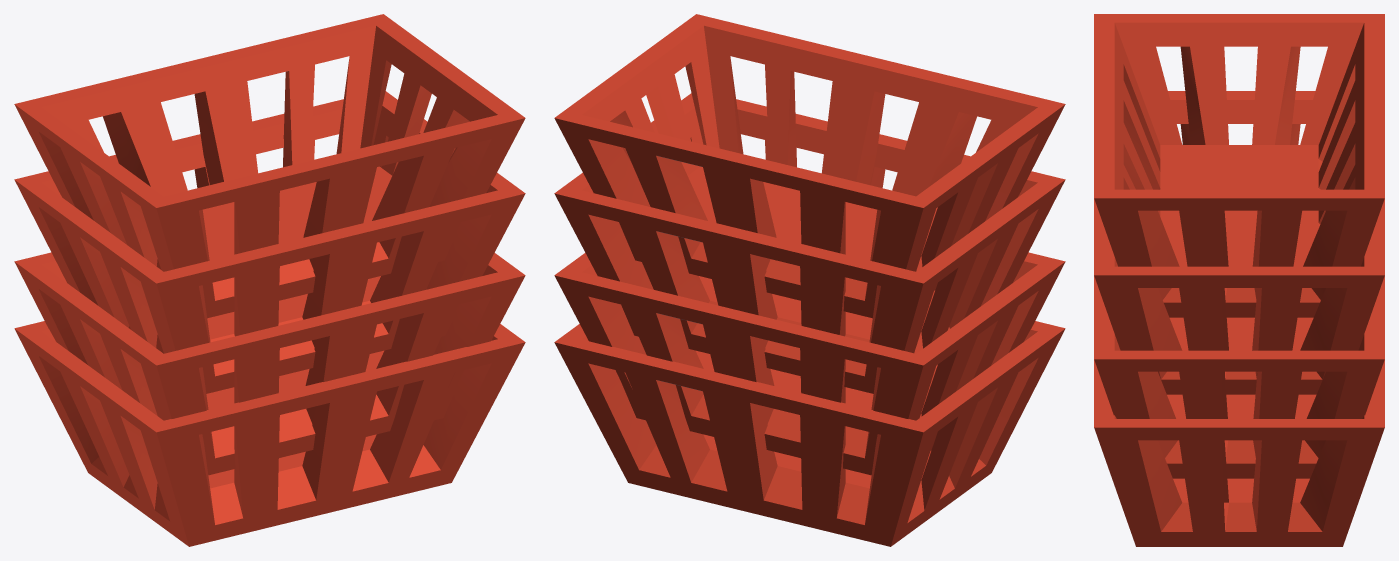
File: MultiBasket.fbx
The picture shows the model from 3 angles, left to right: view 1: azimuth 30°, elevation 25°; view 2: azimuth 150°, elevation 25°; view 3: azimuth 270°, elevation 25°; orthographic projection. The views are drawn at different scales.
Parts seen in each view (by area): view 1: Box001; view 2: Box001; view 3: Box001.
Boxes of the visible parts, bbox=[...] form: Box001: bbox=[14, 14, 525, 546]; Box001: bbox=[554, 14, 1065, 546]; Box001: bbox=[1094, 14, 1384, 546].
Size of the model in its own units: 42.19 by 40.06 by 28.13.
Materials: 1 (1 with a texture image).
